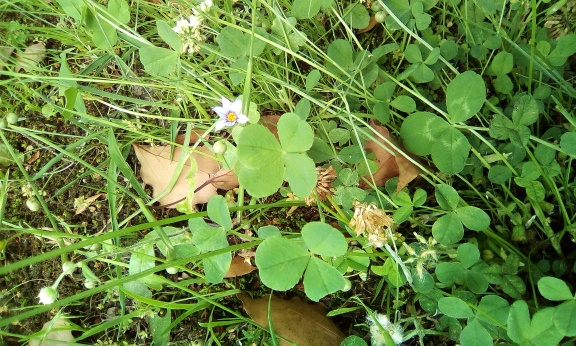4leaf: (233, 112, 318, 199)
